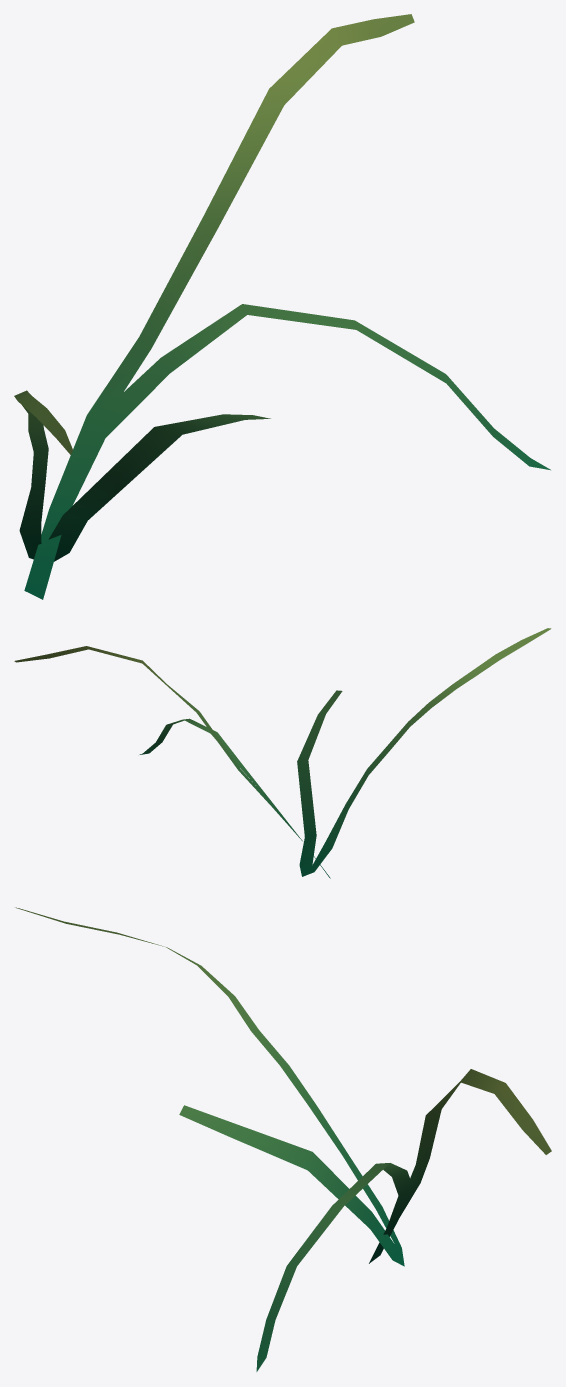
File: grass_medium_01_15.glb
The picture shows the model from 3 angles, top to bottom: view 1: azimuth 30°, elevation 25°; view 2: azimuth 150°, elevation 25°; view 3: azimuth 270°, elevation 25°; orthographic projection. The views are drawn at different scales.
Parts seen in each view (by area): view 1: grass_medium_01_tiny_e_LOD0; view 2: grass_medium_01_tiny_e_LOD0; view 3: grass_medium_01_tiny_e_LOD0.
Part boxes in pixels (box(x1,y1,x2,y2)): grass_medium_01_tiny_e_LOD0: box(14, 14, 550, 599); grass_medium_01_tiny_e_LOD0: box(14, 628, 551, 878); grass_medium_01_tiny_e_LOD0: box(15, 907, 551, 1371).
Size of the model in its own units: 0.0853 by 0.0495 by 0.0742.
